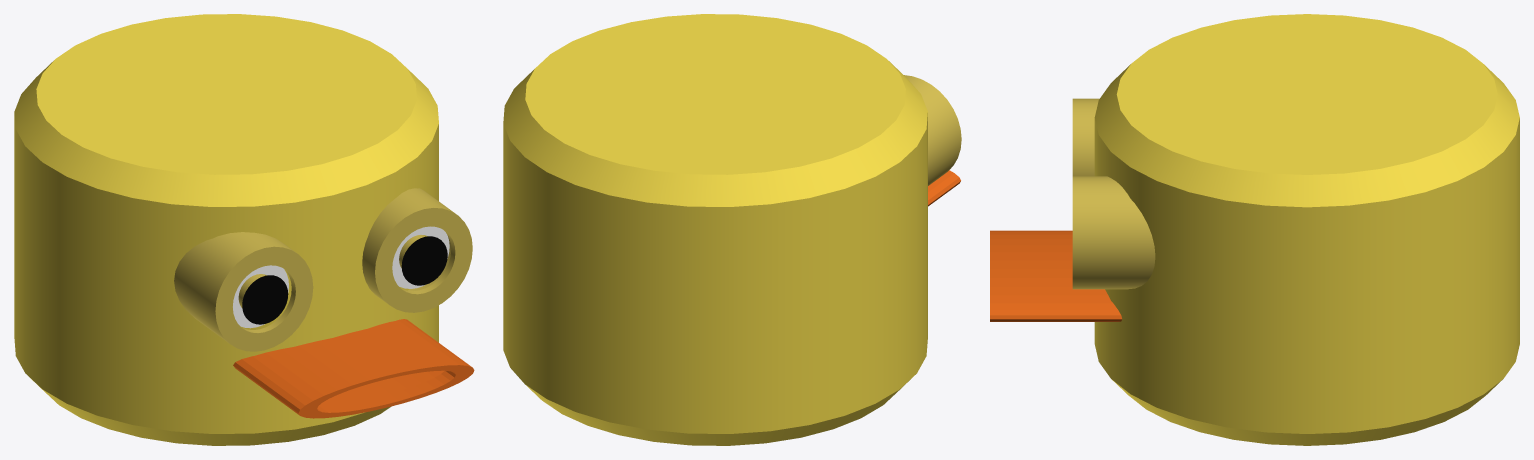
The model's file is Totem3.fbx.
3 renders of one model, left to right at view 1: azimuth 30°, elevation 25°; view 2: azimuth 150°, elevation 25°; view 3: azimuth 270°, elevation 25°, orthographic.
Visible parts, largest first — view 1: Cylinder, Cylinder.001, Cylinder.004, Cylinder.002, Cylinder.003; view 2: Cylinder, Cylinder.001, Cylinder.004; view 3: Cylinder, Cylinder.001, Cylinder.004.
Part boxes in pixels (x1=…): Cylinder: x1=14, y1=14, x2=438, y2=445; Cylinder.001: x1=174, y1=188, x2=472, y2=351; Cylinder.004: x1=233, y1=319, x2=474, y2=418; Cylinder.002: x1=242, y1=236, x2=447, y2=324; Cylinder.003: x1=233, y1=226, x2=449, y2=328; Cylinder: x1=503, y1=14, x2=927, y2=445; Cylinder.001: x1=904, y1=75, x2=961, y2=185; Cylinder.004: x1=928, y1=170, x2=960, y2=206; Cylinder: x1=1094, y1=14, x2=1519, y2=445; Cylinder.001: x1=1072, y1=98, x2=1155, y2=289; Cylinder.004: x1=990, y1=230, x2=1122, y2=321.
Size of the model in its own units: 200 by 140 by 249.
